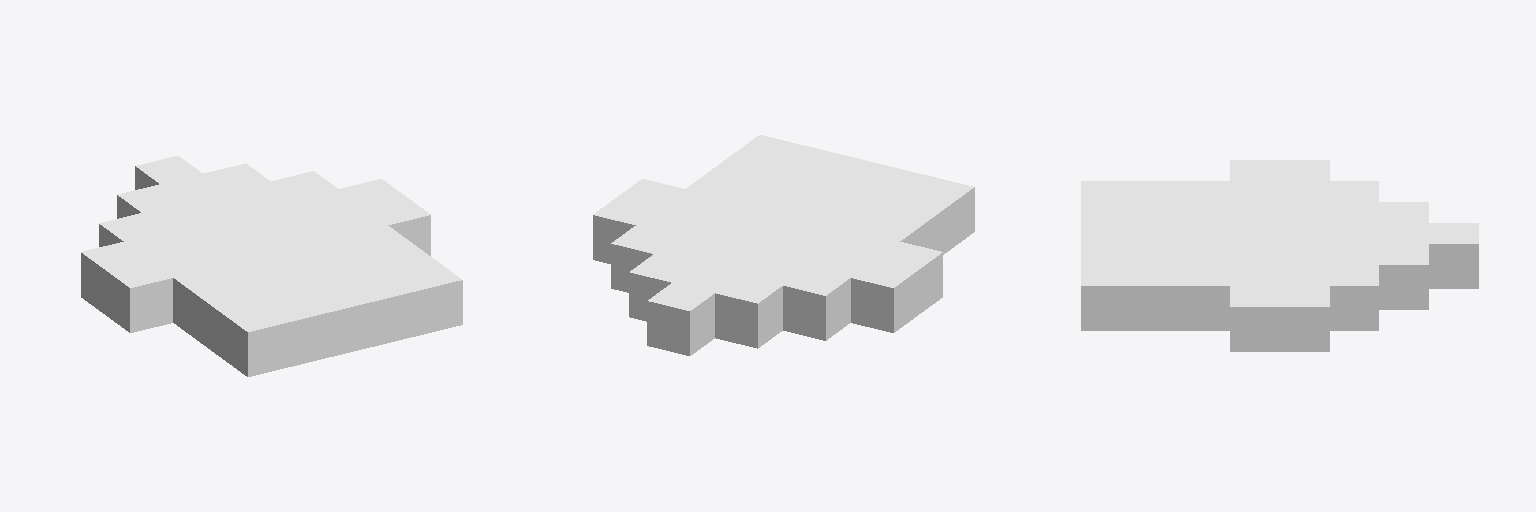
The model's file is stuntArrow.obj.
The picture shows the model from 3 angles: view 1: azimuth 30°, elevation 25°; view 2: azimuth 150°, elevation 25°; view 3: azimuth 270°, elevation 25°; orthographic projection.
Visible parts, largest first — view 1: object 1; view 2: object 1; view 3: object 1.
Boxes of the visible parts, x1,y1,x2,y2 form: object 1: [81, 156, 462, 376]; object 1: [593, 135, 974, 355]; object 1: [1081, 160, 1478, 351].
Size of the model in its own units: 0.7 by 0.1 by 0.8.